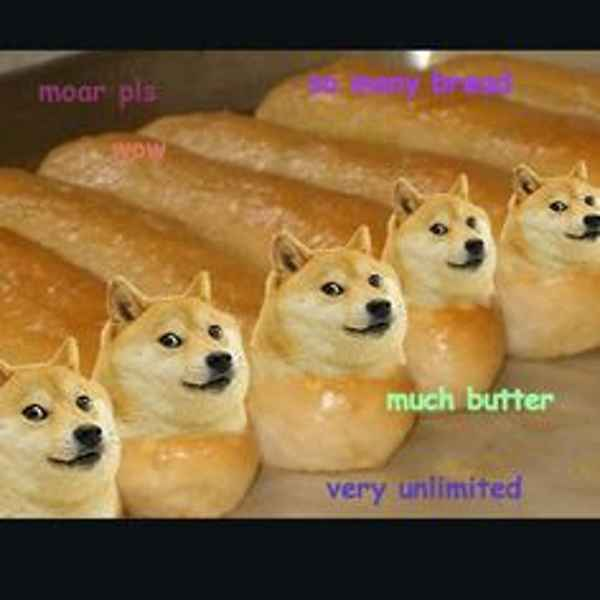doge: (112, 265, 248, 429), (3, 346, 121, 503), (271, 225, 403, 359), (396, 171, 499, 295), (508, 159, 600, 265)
